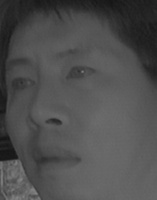eye: (62, 64, 99, 85), (7, 75, 37, 94)
mouth: (28, 142, 82, 180)
